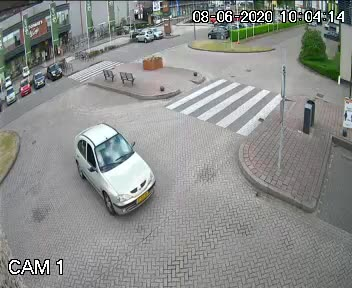car: (59, 117, 167, 217)
